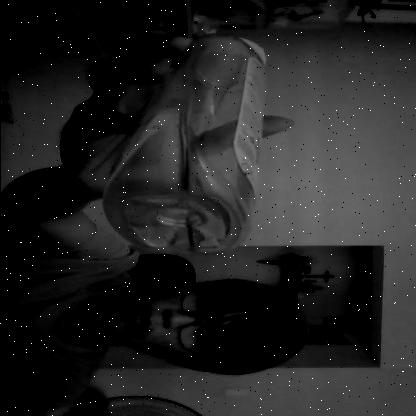Plastic Bottle: (102, 28, 279, 257)
